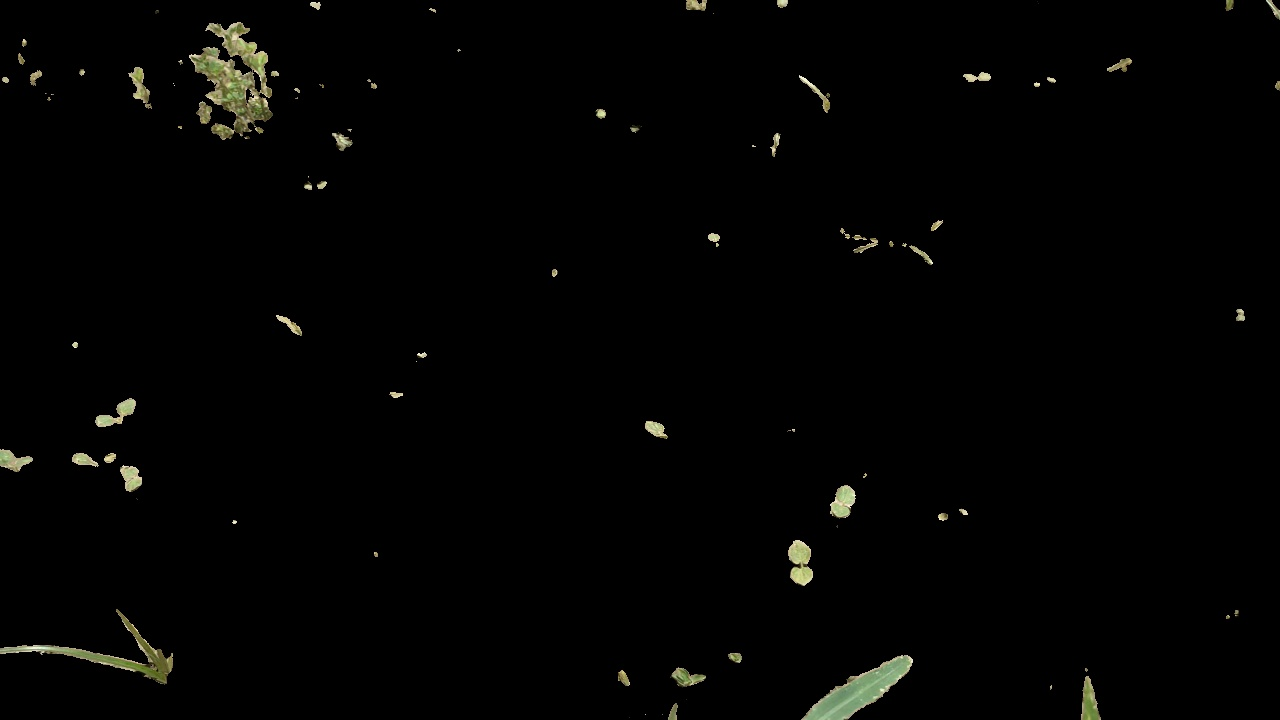crop: (639, 621, 933, 720), (153, 11, 285, 149)
weed: (1, 595, 175, 685), (782, 531, 823, 587), (123, 62, 161, 119), (89, 394, 139, 429), (668, 655, 708, 692), (1, 435, 29, 482), (113, 457, 151, 491), (642, 408, 675, 442), (829, 482, 861, 517), (962, 62, 1003, 87), (68, 447, 96, 477)
